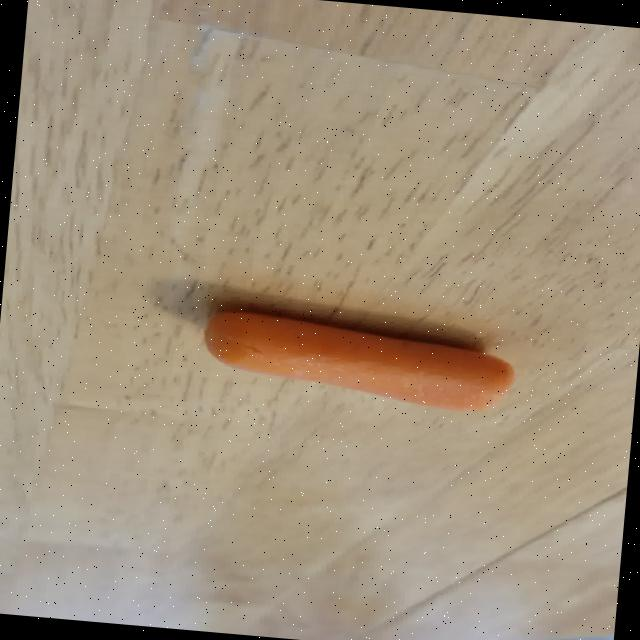carrot: (204, 310, 513, 409)
